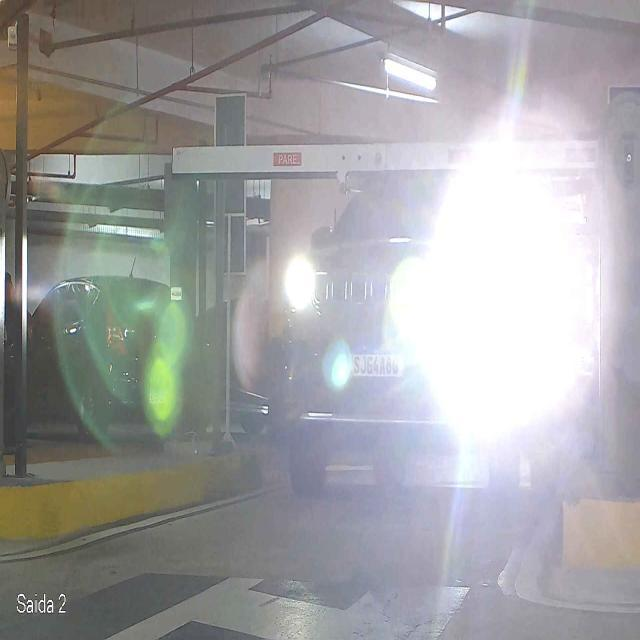mercosul_plate: (347, 346, 406, 378)
